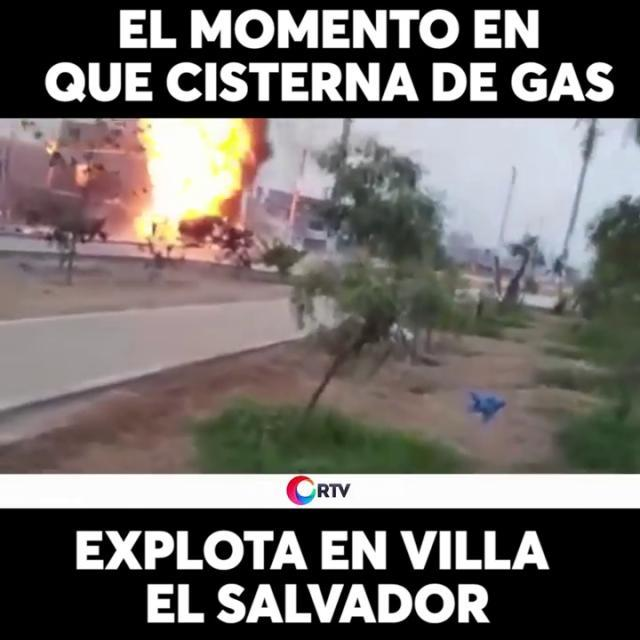Fire: (122, 118, 266, 246)
